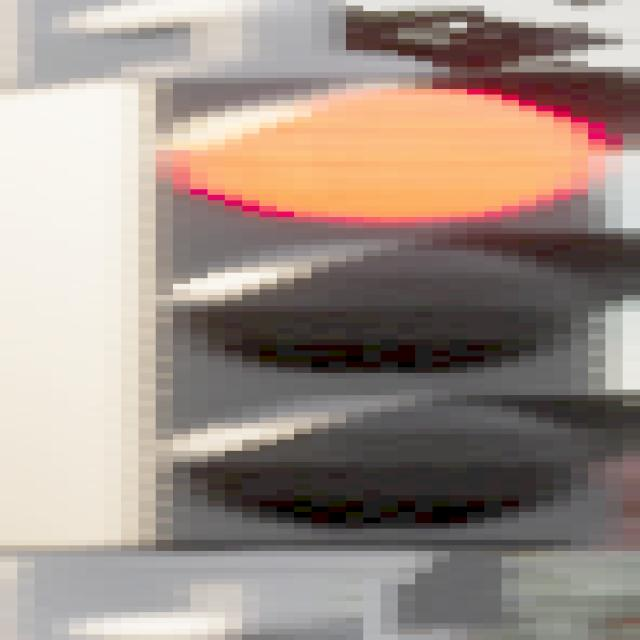red_light: (93, 81, 640, 557)
